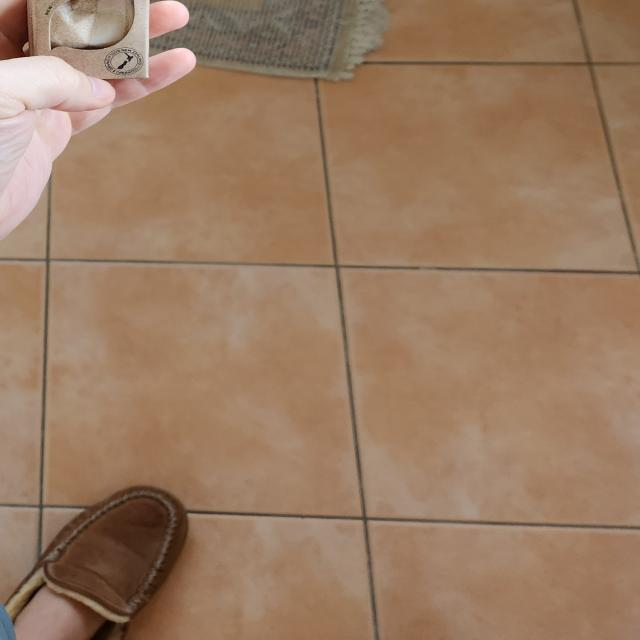onion powder: (26, 0, 152, 81)
